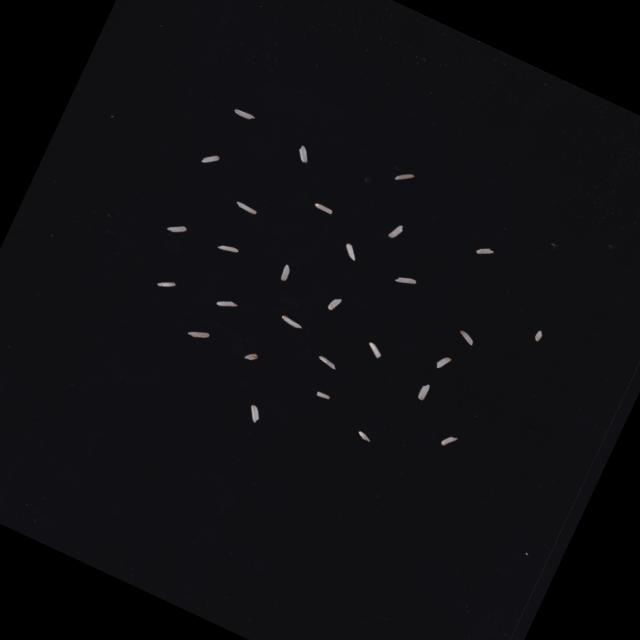Not: (393, 272, 418, 290), (214, 296, 238, 314), (187, 326, 210, 344), (234, 200, 258, 217), (294, 144, 314, 164), (341, 242, 361, 262), (244, 404, 264, 424), (280, 315, 304, 331), (394, 168, 415, 186), (166, 220, 187, 238), (474, 243, 496, 260), (217, 241, 240, 257), (439, 432, 458, 451), (200, 150, 220, 168), (387, 222, 405, 242), (156, 276, 177, 293), (364, 342, 384, 359), (456, 329, 476, 346), (233, 107, 255, 122), (316, 355, 338, 370), (434, 354, 452, 372), (312, 202, 334, 216), (416, 382, 431, 402), (327, 295, 342, 313), (278, 264, 292, 283), (243, 350, 260, 364), (356, 430, 373, 443), (315, 390, 331, 402), (533, 328, 544, 342)
